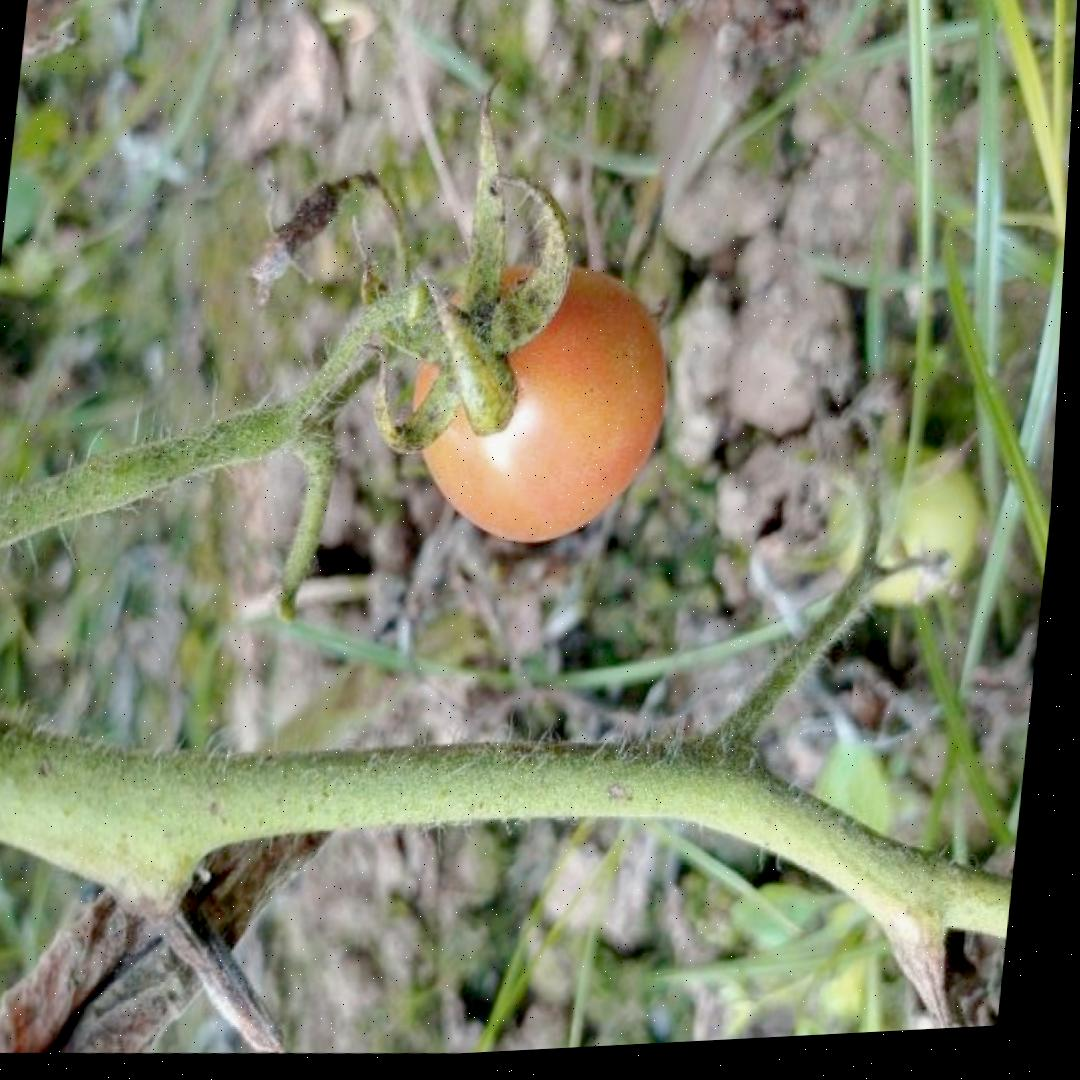setengah_matang: (395, 243, 682, 560)
